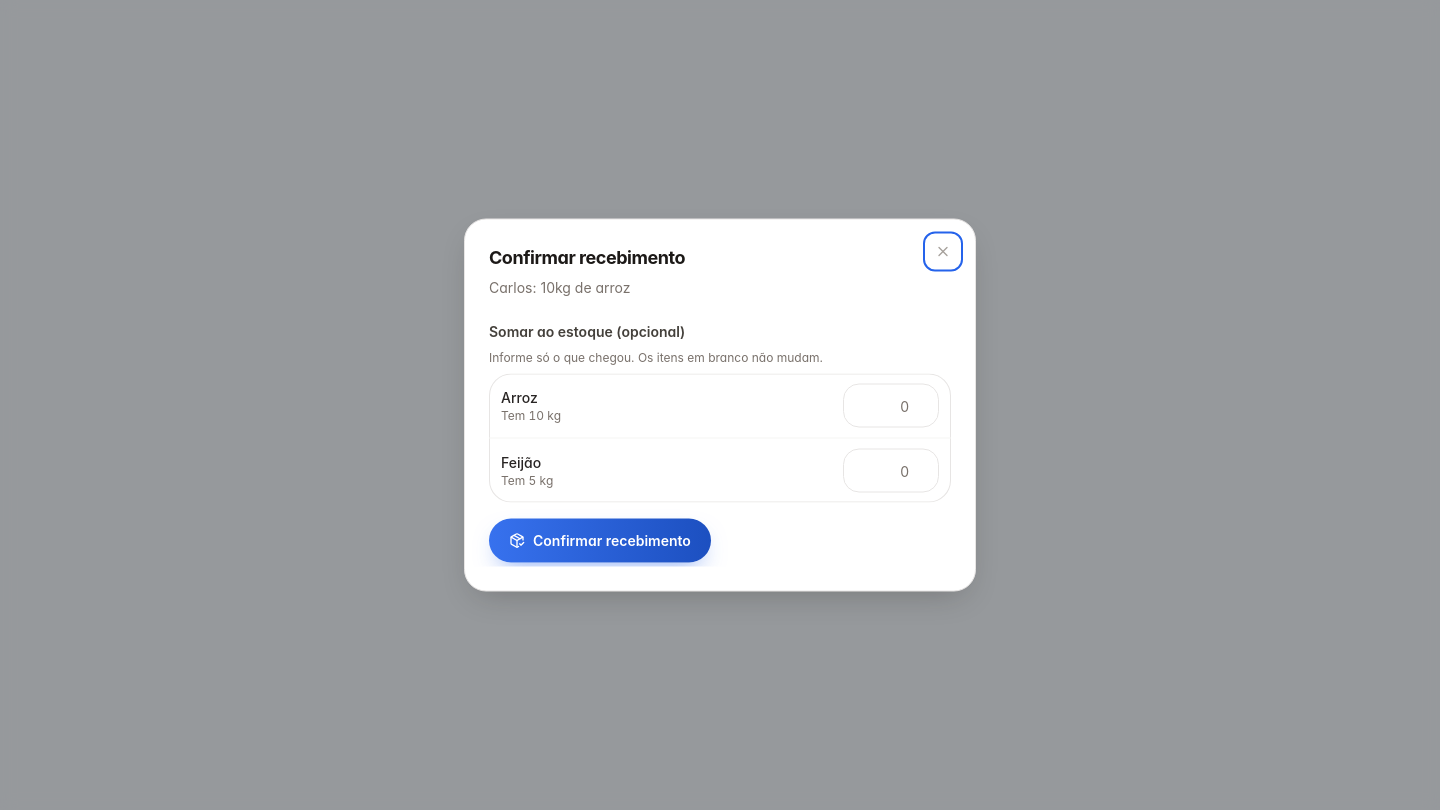
it: ReceiveDonationModal › mostra quanto o estoque passa a ter ao digitar a quantidade recebida
Type "4" into the number field labelled "Arroz".
click(891, 406); type("4")  # box [843,384,939,428]
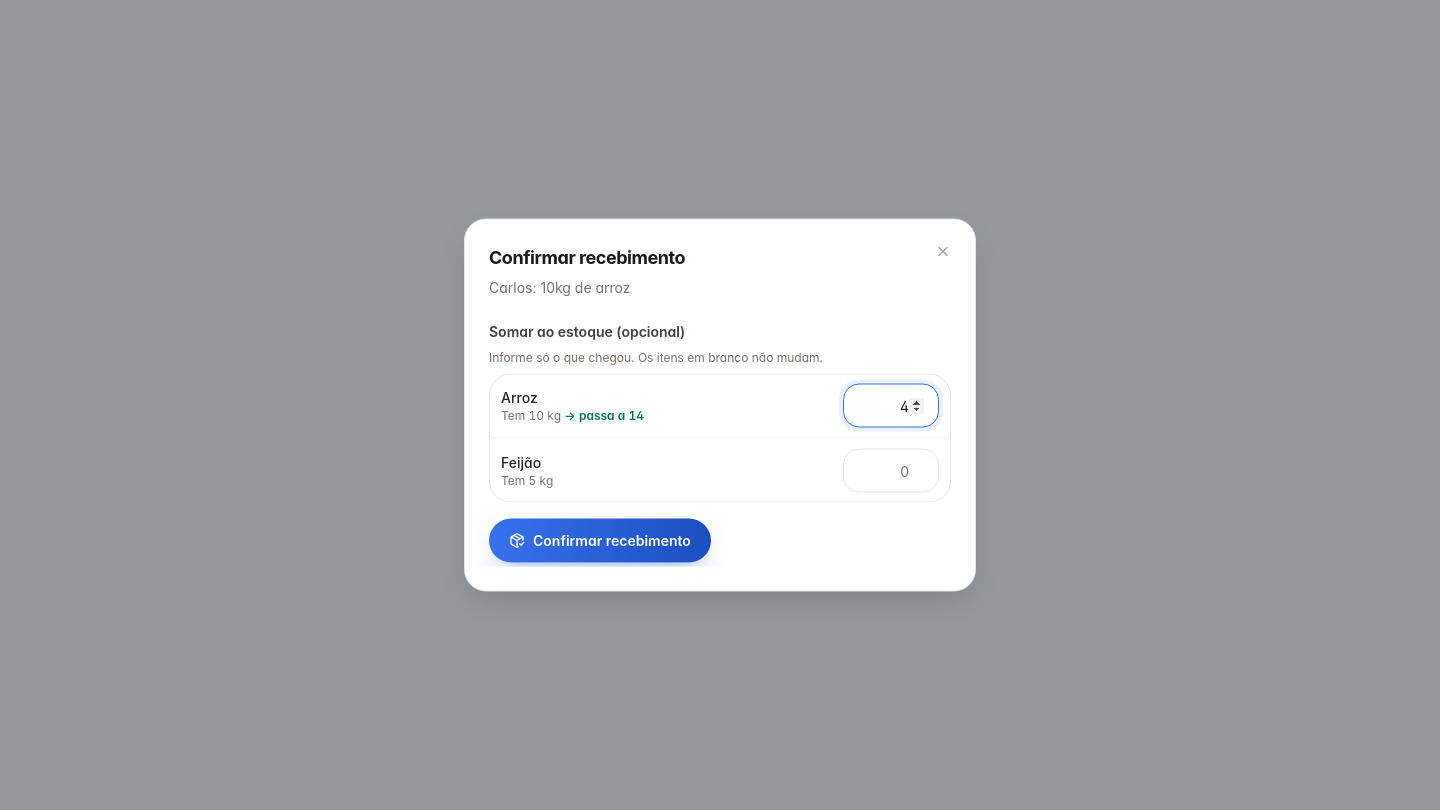
Check: the text "→ passa a 14" is shown, box [561,408,644,422]
